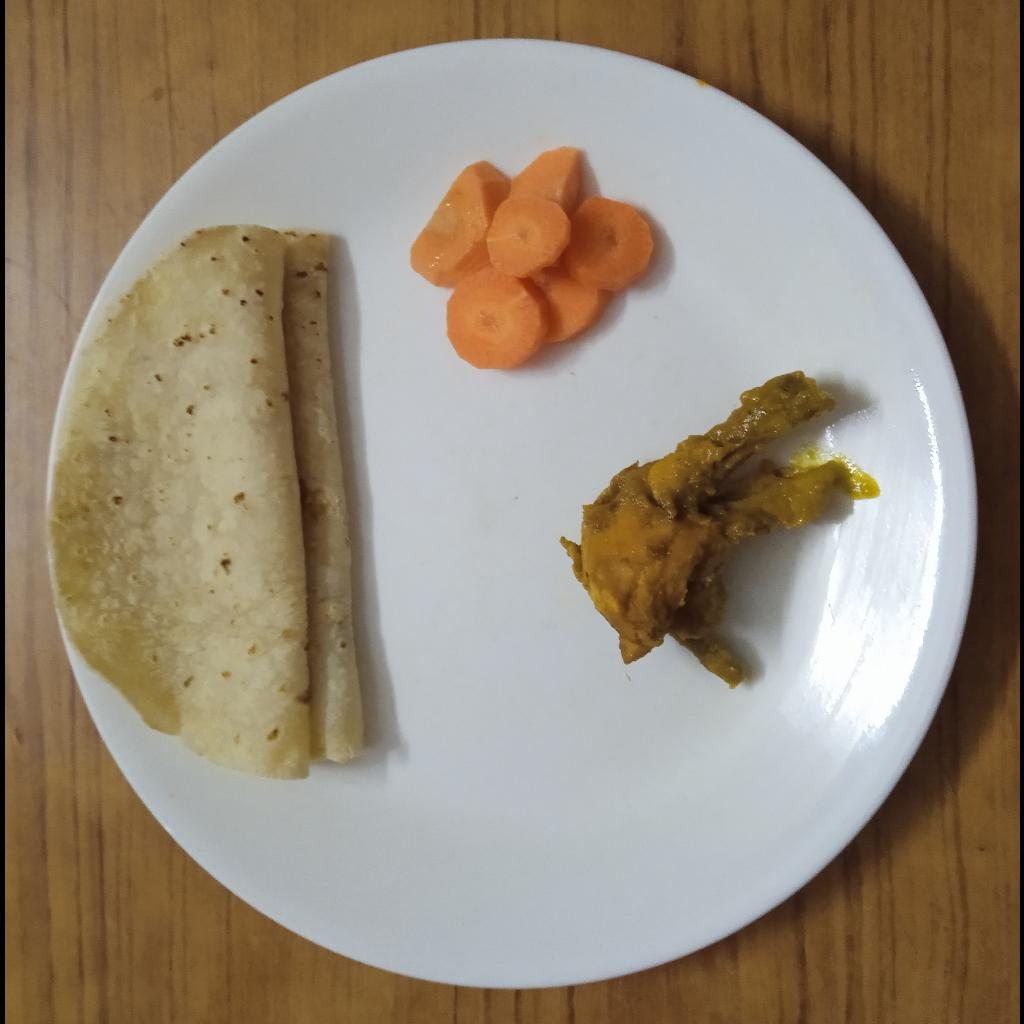carrot: (409, 147, 654, 370)
chicken: (558, 370, 839, 689)
ruti: (45, 223, 366, 780)
